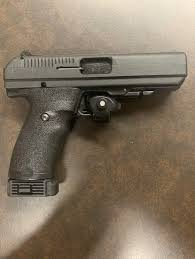gun: (1, 49, 188, 198)
